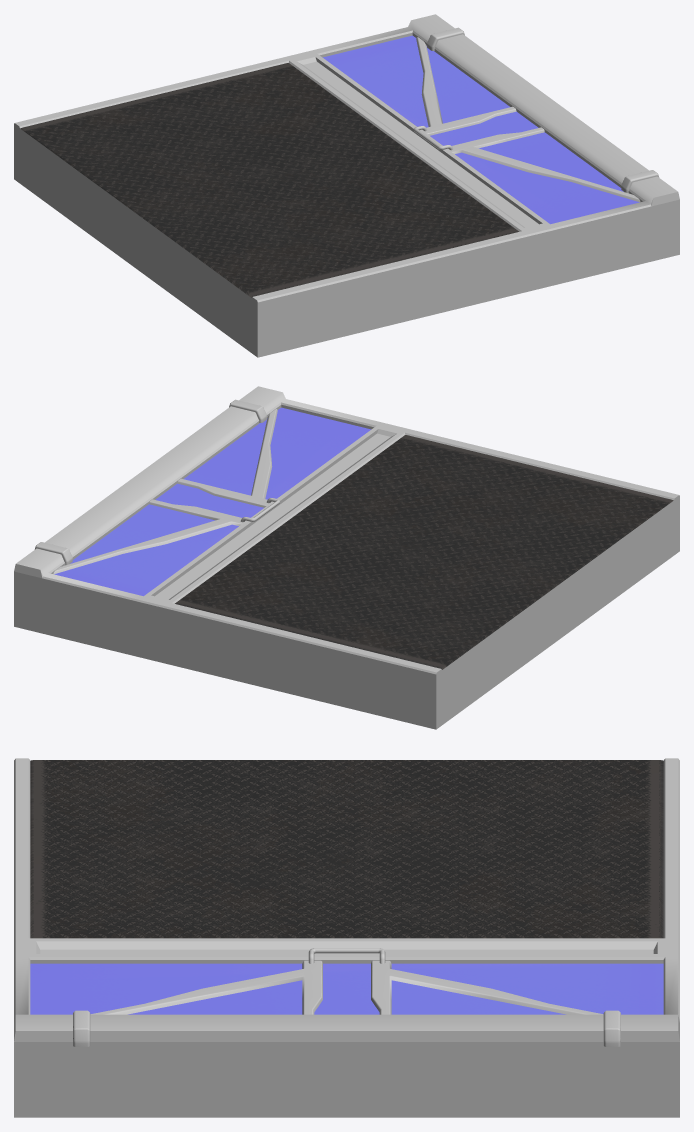
The model's file is SM_Floor_B.FBX.
3 views of the same model, one above another, from view 1: azimuth 30°, elevation 25°; view 2: azimuth 150°, elevation 25°; view 3: azimuth 270°, elevation 25° (orthographic). The views are drawn at different scales.
Parts seen in each view (by area): view 1: SM_Floor_B; view 2: SM_Floor_B; view 3: SM_Floor_B.
Boxes of the visible parts, x1,y1,x2,y2 form: SM_Floor_B: [14, 14, 679, 357]; SM_Floor_B: [14, 386, 679, 729]; SM_Floor_B: [14, 758, 679, 1117].
Bounding box in the file's own units: 403 × 59.09 × 400.
